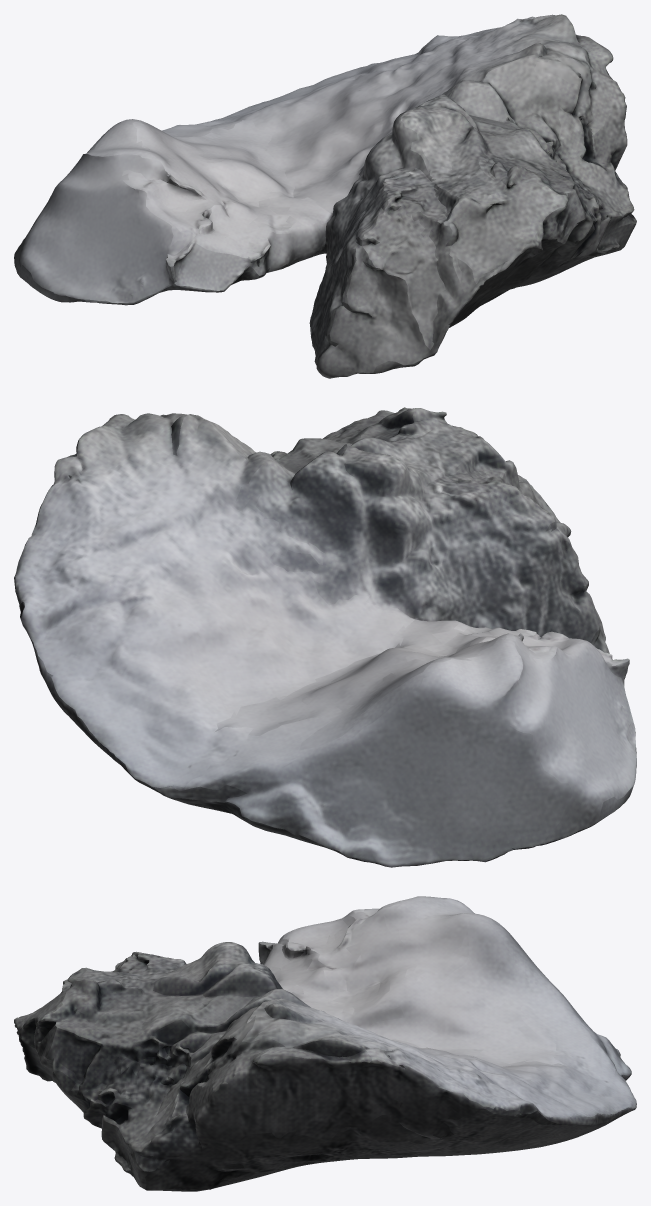
3 renders of one model, top to bottom at view 1: azimuth 30°, elevation 25°; view 2: azimuth 150°, elevation 25°; view 3: azimuth 270°, elevation 25°, orthographic. The views are drawn at different scales.
Parts seen in each view (by area): view 1: world; view 2: world; view 3: world.
Part boxes in pixels (x1,y1,x2,y2): world: (14,14,636,378); world: (14,407,636,867); world: (14,896,636,1191).
Bounding box in the file's own units: 1.2 × 0.4745 × 1.2.
Materials: 1 (1 with a texture image).
